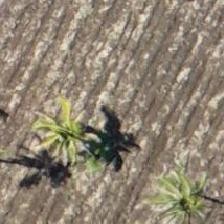coconut_tree: (15, 87, 105, 177), (144, 162, 223, 223)
